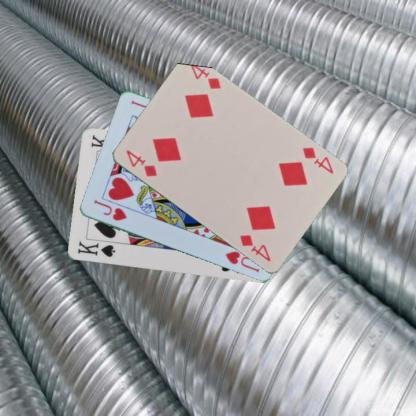4d: (300, 145, 334, 176), (123, 148, 158, 178)
Jh: (90, 197, 128, 222)
Ks: (74, 238, 116, 258)
